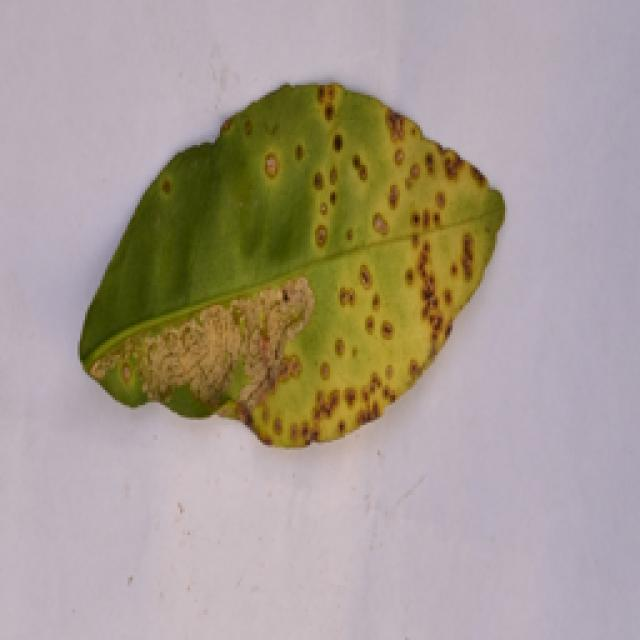canker: (68, 72, 507, 464)
